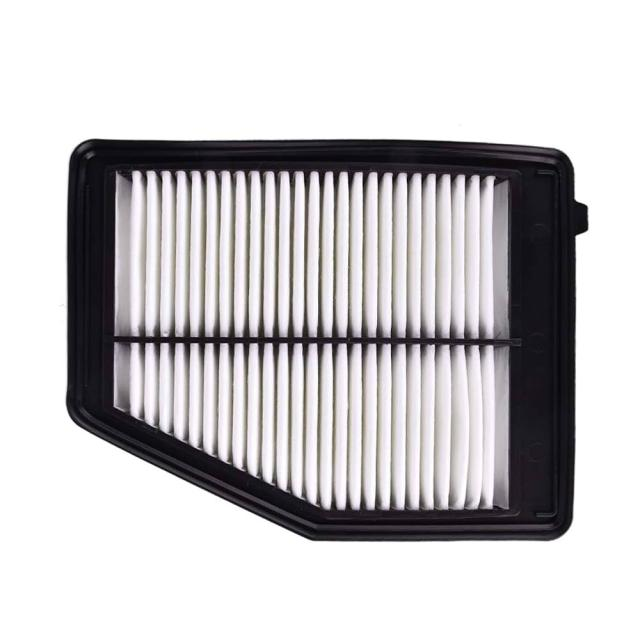air_filter: (68, 150, 570, 546)
